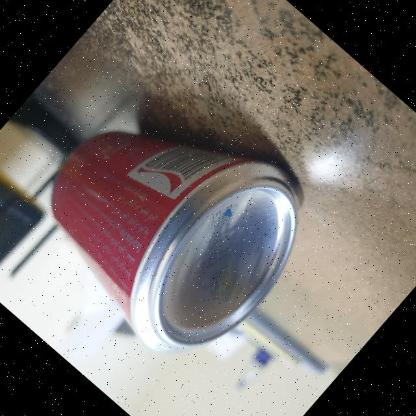Can: (37, 112, 328, 358)
